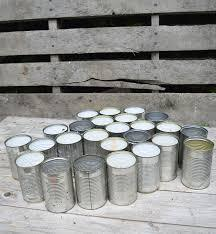Tin: (5, 86, 216, 214)
